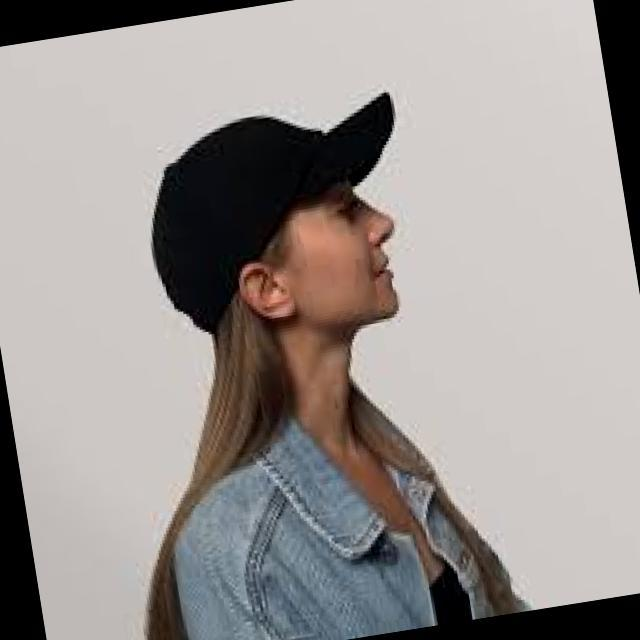cap: (114, 57, 453, 356)
